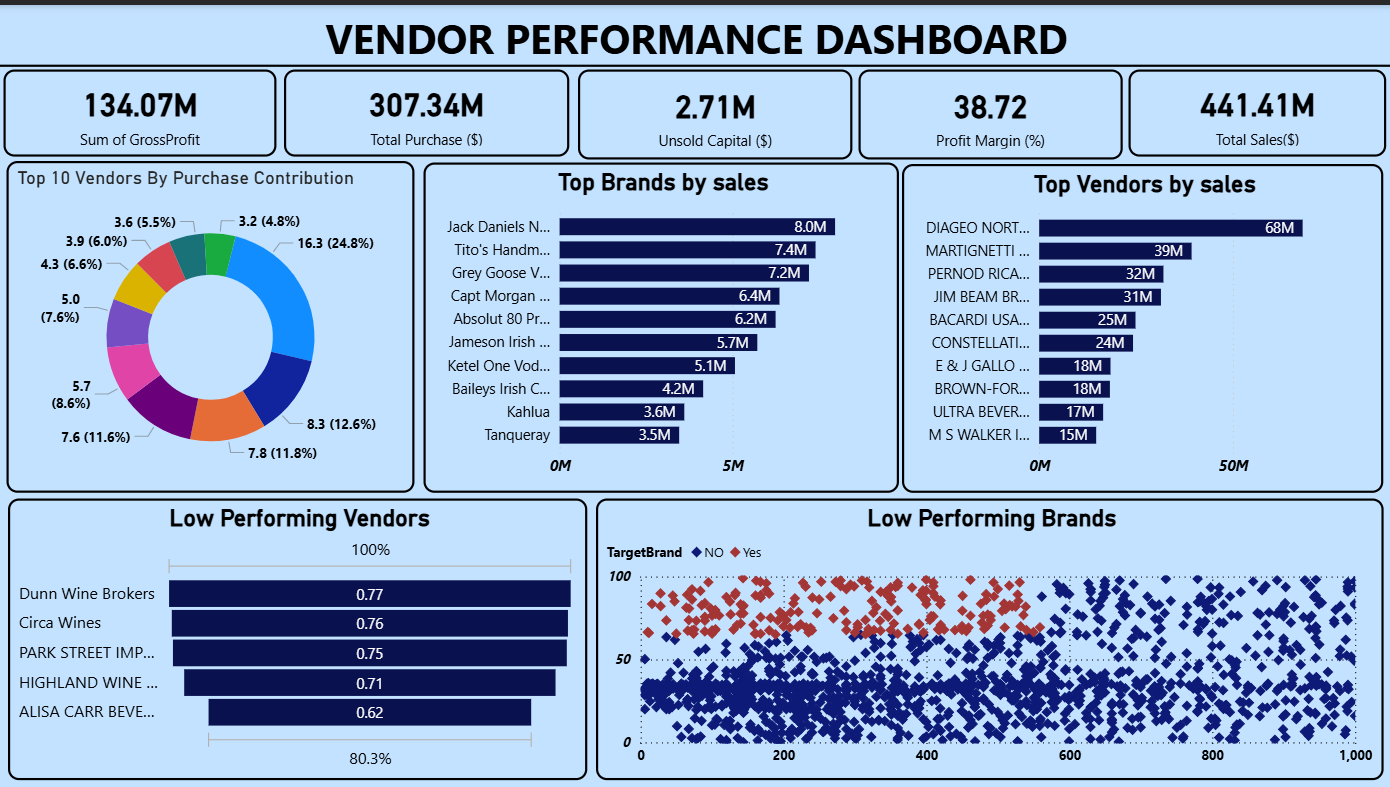

What the dashboard file says about the page in this screenshot:
{"tool":"powerbi","page":{"name":"Vendor Performance Dashboard","canvas":[1280,720],"ordinal":0},"visuals":[{"type":"textbox","box":[1.4,0,1278.4,77.1],"z":0},{"type":"card","fields":{"Values":["Sum(vendor_sales_summary.TotalSalesDollars)"]},"box":[1037.3,59.2,236.9,79.9],"z":1000},{"type":"card","fields":{"Values":["Sum(vendor_sales_summary.TotalPurchaseDollars)"]},"box":[261.7,59.2,261.7,79.9],"z":2000},{"type":"card","fields":{"Values":["Sum(vendor_sales_summary.GrossProfit)"]},"box":[4.1,59.2,250.7,79.9],"z":3000},{"type":"card","fields":{"Values":["Avg(vendor_sales_summary.ProfitMargin)"]},"box":[789.4,59.2,242.5,82.7],"z":4000},{"type":"card","fields":{"Values":["Sum(vendor_sales_summary.UnsoldCapital)"]},"box":[531.7,59.2,252.1,82.7],"z":5000},{"type":"donutChart","title":"Top 10 Vendors By Purchase Contribution","fields":{"Category":["PurchaseContribution.VendorName"],"Y":["Sum(PurchaseContribution.PurchaseContribution%)"]},"box":[6.9,143.3,374.7,304.4],"z":6000},{"type":"clusteredBarChart","title":"Top Vendors by sales","fields":{"Category":["vendor_sales_summary.VendorName"],"Y":["Sum(vendor_sales_summary.TotalSalesDollars)"]},"box":[829.3,146,442.2,301.7],"z":7000},{"type":"clusteredBarChart","title":"Top Brands by sales","fields":{"Y":["Sum(vendor_sales_summary.TotalSalesDollars)"],"Category":["vendor_sales_summary.Description"]},"box":[389.9,144.6,436.7,303.1],"z":8000},{"type":"funnel","title":"Low Performing Vendors","fields":{"Category":["LowPerformingVendor.VendorName"],"Y":["Avg(LowPerformingVendor.AvgStockTurnOver)"]},"box":[8.3,453.2,531.7,259],"z":9000},{"type":"scatterChart","title":"Low Performing Brands","fields":{"Category":["BrandPerformance.Description"],"X":["Sum(BrandPerformance.TotalSales)"],"Y":["Sum(BrandPerformance.AvgProfitMargin)"],"Series":["BrandPerformance.TargetBrand"]},"box":[548.3,453.2,723.2,259],"z":10000},{"type":"shape","box":[0,0,1279.8,111.6],"z":10001}]}

Visuals, with their boxes in screenshot pixels (x1, y1, x2, y2), scaled from the page's 1280x720 canvas onto the 1390x787 screenshot:
textbox: 2:0:1389:84
card - Sum(vendor_sales_summary.TotalSalesDollars): 1126:65:1384:152
card - Sum(vendor_sales_summary.TotalPurchaseDollars): 284:65:568:152
card - Sum(vendor_sales_summary.GrossProfit): 4:65:277:152
card - Avg(vendor_sales_summary.ProfitMargin): 857:65:1121:155
card - Sum(vendor_sales_summary.UnsoldCapital): 577:65:851:155
"Top 10 Vendors By Purchase Contribution" donutChart: 7:157:414:489
"Top Vendors by sales" clusteredBarChart: 901:160:1381:489
"Top Brands by sales" clusteredBarChart: 423:158:898:489
"Low Performing Vendors" funnel: 9:495:586:778
"Low Performing Brands" scatterChart: 595:495:1381:778
shape: 0:0:1389:122
